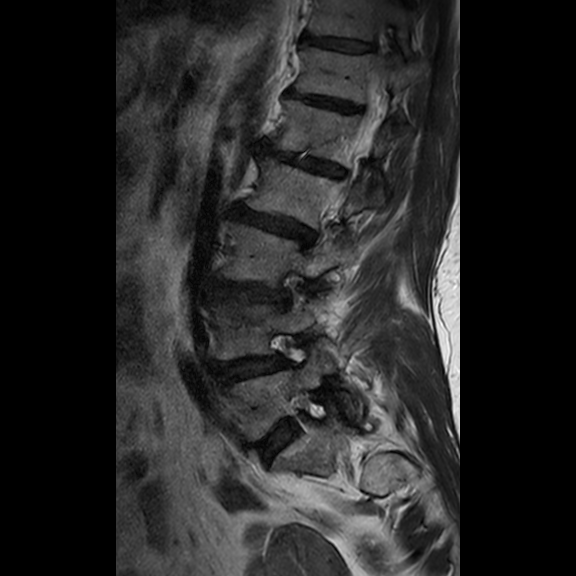RFS0: (262, 321, 325, 373)
RFS3: (267, 254, 321, 318)
